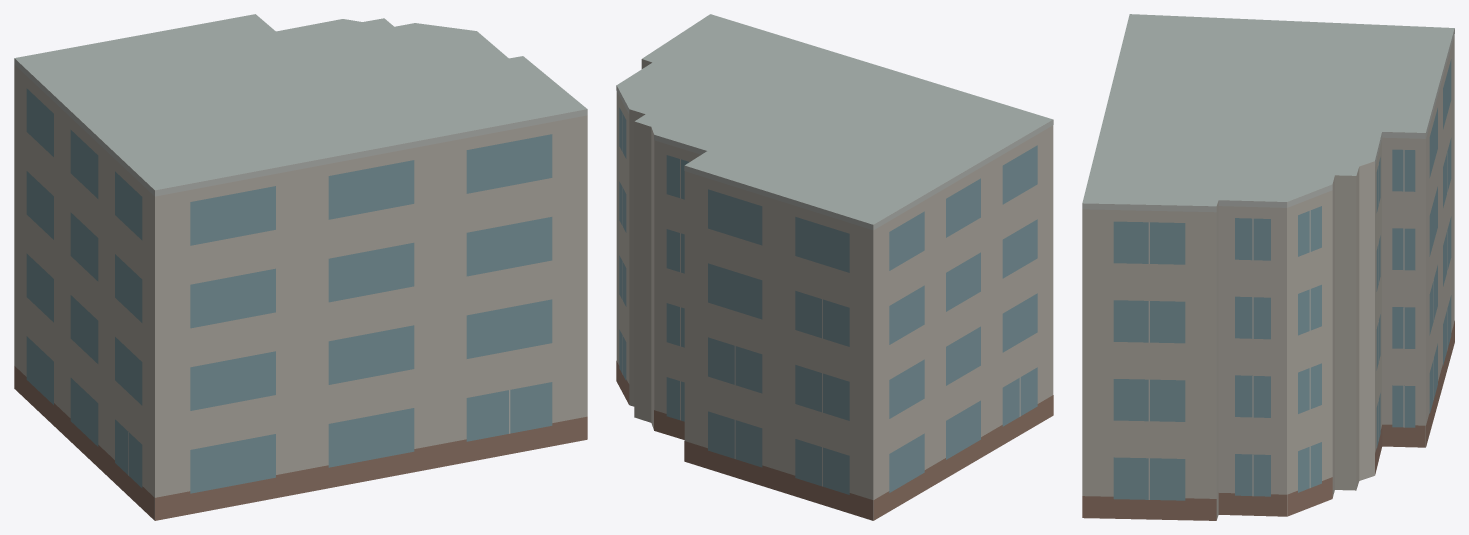
The model's file is survey-upis-32921344.glb.
3 renders of one model, left to right at view 1: azimuth 30°, elevation 25°; view 2: azimuth 150°, elevation 25°; view 3: azimuth 270°, elevation 25°, orthographic. The views are drawn at different scales.
Visible parts, largest first — view 1: survey-upis-32921344.tmp; view 2: survey-upis-32921344.tmp; view 3: survey-upis-32921344.tmp.
Boxes of the visible parts, x1,y1,x2,y2 form: survey-upis-32921344.tmp: [14, 14, 587, 520]; survey-upis-32921344.tmp: [616, 14, 1053, 520]; survey-upis-32921344.tmp: [1082, 14, 1454, 520].
Size of the model in its own units: 17.05 by 13 by 13.96.
